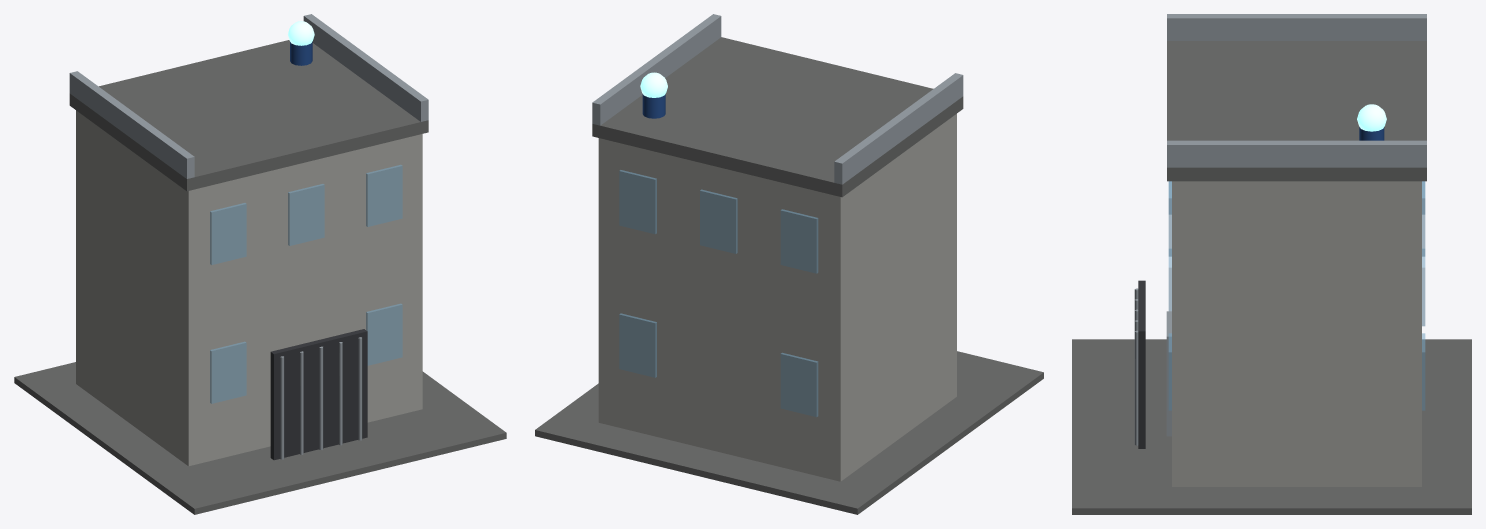
Rendered from bld_special_police_a07.glb.
3 views of the same model, side by side, from view 1: azimuth 30°, elevation 25°; view 2: azimuth 150°, elevation 25°; view 3: azimuth 270°, elevation 25° (orthographic). The views are drawn at different scales.
Visible parts, largest first — view 1: body; view 2: body; view 3: body.
Boxes of the visible parts, box(x1,y1,x2,y2) form: body: box(14, 14, 506, 514); body: box(535, 14, 1043, 514); body: box(1072, 14, 1471, 514).
Size of what is drawn, in the model's own units: 8 by 8.2 by 8.
